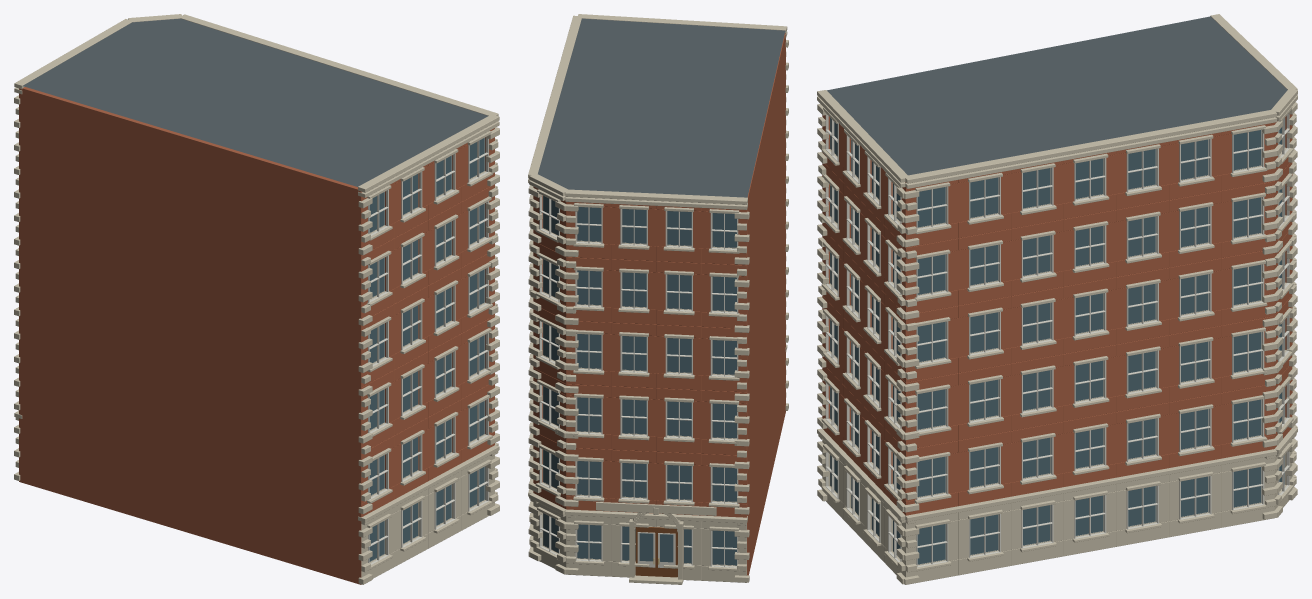
File: 51l-exterior-953907c615c1.glb
3 renders of one model, left to right at view 1: azimuth 30°, elevation 25°; view 2: azimuth 150°, elevation 25°; view 3: azimuth 270°, elevation 25°, orthographic. The views are drawn at different scales.
Parts seen in each view (by area): view 1: 51L.001; view 2: 51L.001; view 3: 51L.001.
Boxes of the visible parts, bbox=[...] form: 51L.001: bbox=[14, 14, 499, 584]; 51L.001: bbox=[528, 14, 788, 584]; 51L.001: bbox=[817, 14, 1297, 584].
Bounding box in the file's own units: 18.38 × 20.95 × 22.41.
